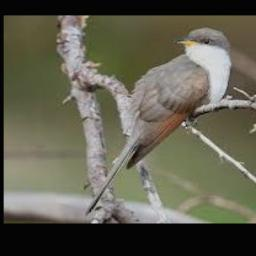Cuckoo: (85, 28, 234, 216)
